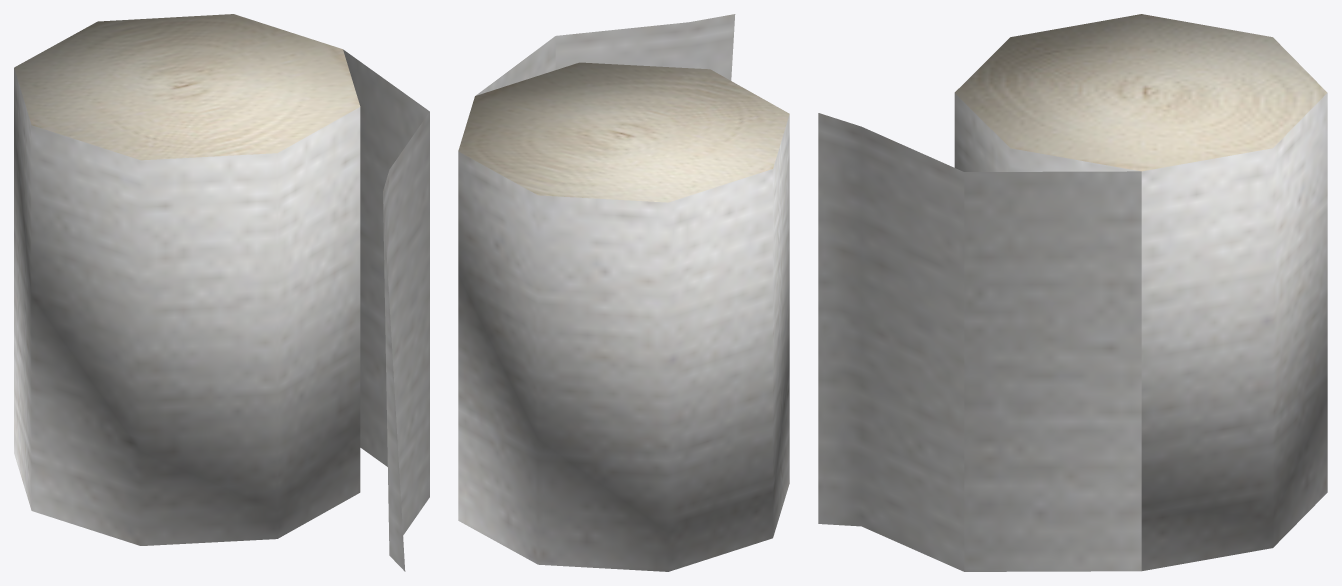
File: Bandage.fbx
3 views of the same model, side by side, from view 1: azimuth 30°, elevation 25°; view 2: azimuth 150°, elevation 25°; view 3: azimuth 270°, elevation 25° (orthographic). The views are drawn at different scales.
Parts seen in each view (by area): view 1: Cube; view 2: Cube; view 3: Cube.
Boxes of the visible parts, x1,y1,x2,y2 form: Cube: (14, 14, 429, 571); Cube: (458, 14, 789, 571); Cube: (818, 14, 1327, 571).
Size of the model in its own units: 123 by 145 by 167.
1 material, 1 textured.
